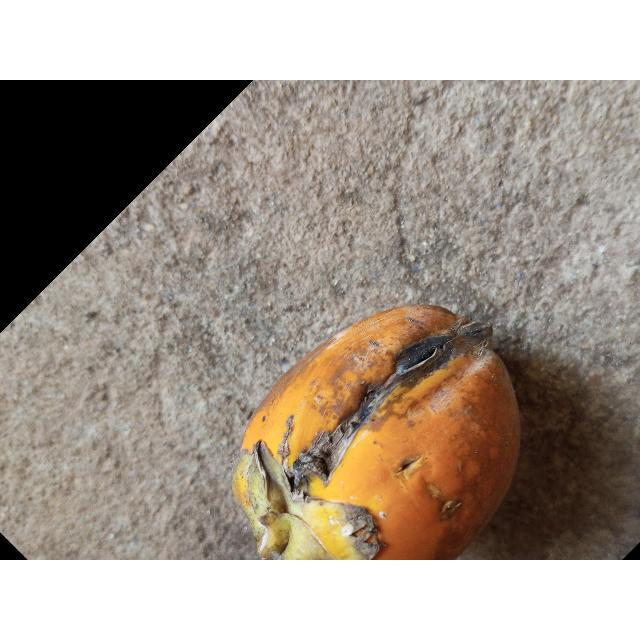damaged: (232, 305, 520, 560)
